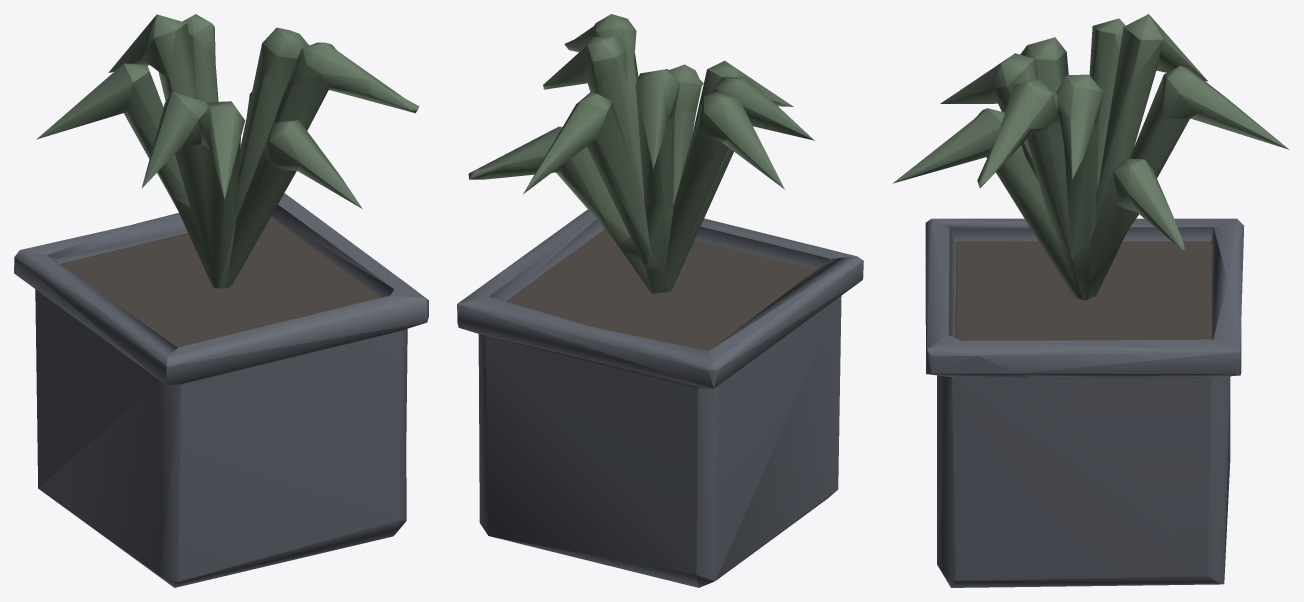
File: pot_a.glb
3 renders of one model, left to right at view 1: azimuth 30°, elevation 25°; view 2: azimuth 150°, elevation 25°; view 3: azimuth 270°, elevation 25°, orthographic. The views are drawn at different scales.
Visible parts, largest first — view 1: pot_a; view 2: pot_a; view 3: pot_a.
Part boxes in pixels (x1,y1,x2,y2): pot_a: (14, 14, 428, 587); pot_a: (457, 14, 863, 587); pot_a: (892, 14, 1289, 587).
Bounding box in the file's own units: 0.5471 × 0.8351 × 0.5973.
